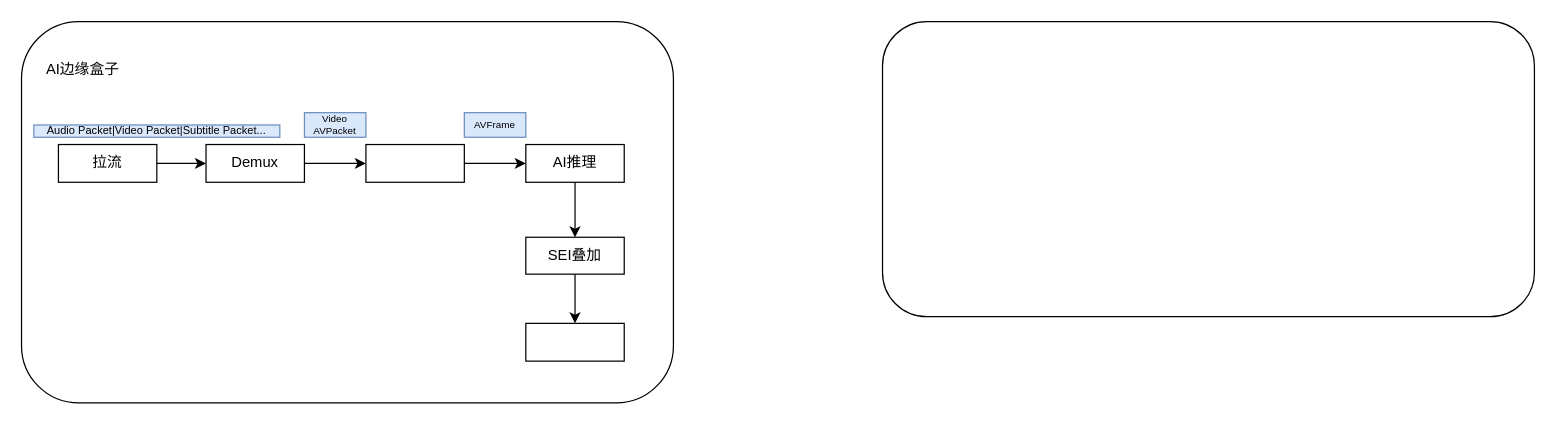
This 1556x424 diagram has some shape labels left out. Here are the shapes that lost their labels. From the top down, the centre of each, then its label:
the point at 414,162: 解码
the point at 1207,168: 前端
the point at 574,341: 推流
